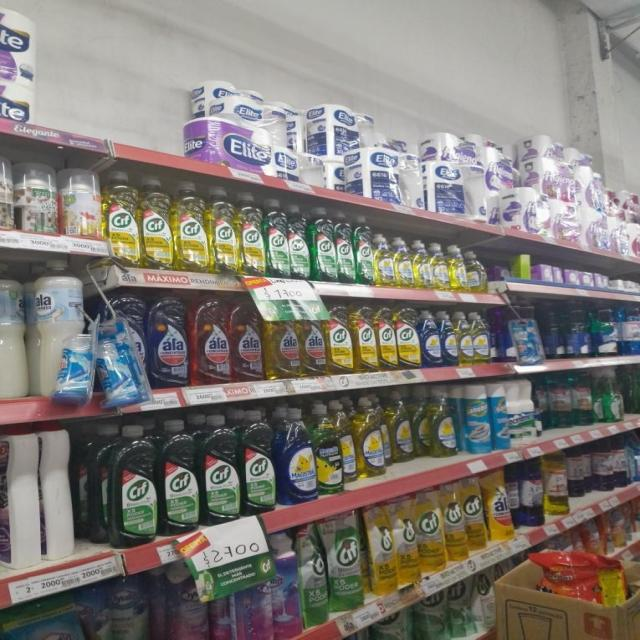ala_conc_amarillo: (264, 301, 298, 380), (300, 304, 326, 377)
ala_conc_azul: (147, 292, 189, 388)
ala_conc_rojo: (192, 294, 230, 386), (231, 296, 263, 382)
ala_crem_blanco: (29, 258, 91, 402), (0, 259, 27, 401)
ala_sachet_amarillo: (487, 468, 512, 542)
cif_conc_bot_amarilla: (106, 169, 139, 268), (173, 181, 208, 273), (141, 176, 172, 270), (208, 186, 238, 275), (238, 194, 264, 277), (326, 304, 352, 376), (353, 305, 376, 373), (397, 306, 419, 370), (376, 306, 396, 372)
cif_conc_botella_verde: (106, 424, 158, 547), (159, 418, 199, 536), (200, 413, 240, 524), (241, 409, 276, 515), (265, 198, 288, 278), (312, 207, 335, 282), (288, 204, 310, 280), (336, 211, 354, 283), (355, 214, 373, 285)
cif_conc_sachet_amarillo: (418, 487, 443, 572), (444, 478, 465, 562), (464, 473, 486, 552)
cif_conc_sachet_verde: (328, 512, 363, 612), (302, 524, 326, 626)
magistral_con_amarillo: (356, 395, 386, 478), (430, 386, 457, 458), (388, 389, 413, 464), (413, 388, 430, 459), (374, 233, 393, 287), (412, 240, 431, 290), (472, 311, 489, 365), (394, 237, 412, 288), (431, 242, 449, 291), (449, 244, 467, 292), (468, 250, 487, 293), (457, 311, 472, 365)
magistral_con_azul: (420, 310, 440, 368), (441, 310, 457, 367)
